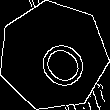O_NW: (20, 23, 87, 90)
